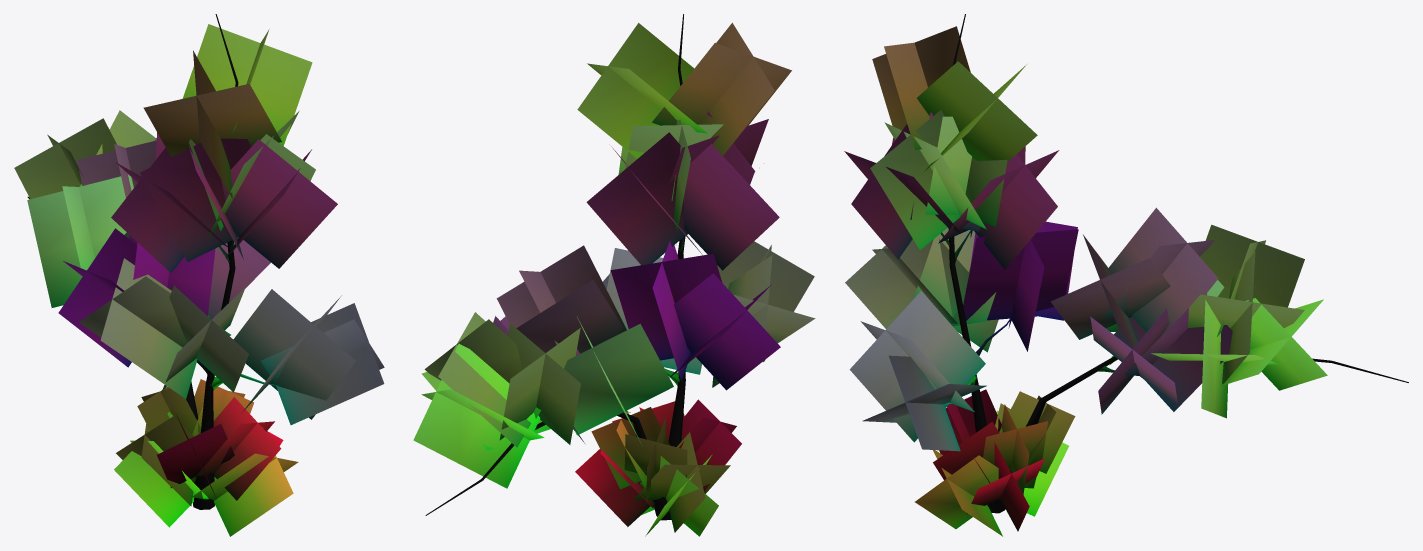
File: URP_P12_Tree_9_LOD_3.fbx
The picture shows the model from 3 angles, left to right: view 1: azimuth 30°, elevation 25°; view 2: azimuth 150°, elevation 25°; view 3: azimuth 270°, elevation 25°; orthographic projection. The views are drawn at different scales.
Parts seen in each view (by area): view 1: Tree_9_LOD_3; view 2: Tree_9_LOD_3; view 3: Tree_9_LOD_3.
Part boxes in pixels (<box>): Tree_9_LOD_3: <box>14,14,384,536</box>; Tree_9_LOD_3: <box>413,14,815,536</box>; Tree_9_LOD_3: <box>844,14,1408,536</box>.
Bounding box in the file's own units: 193 × 349 × 350.
